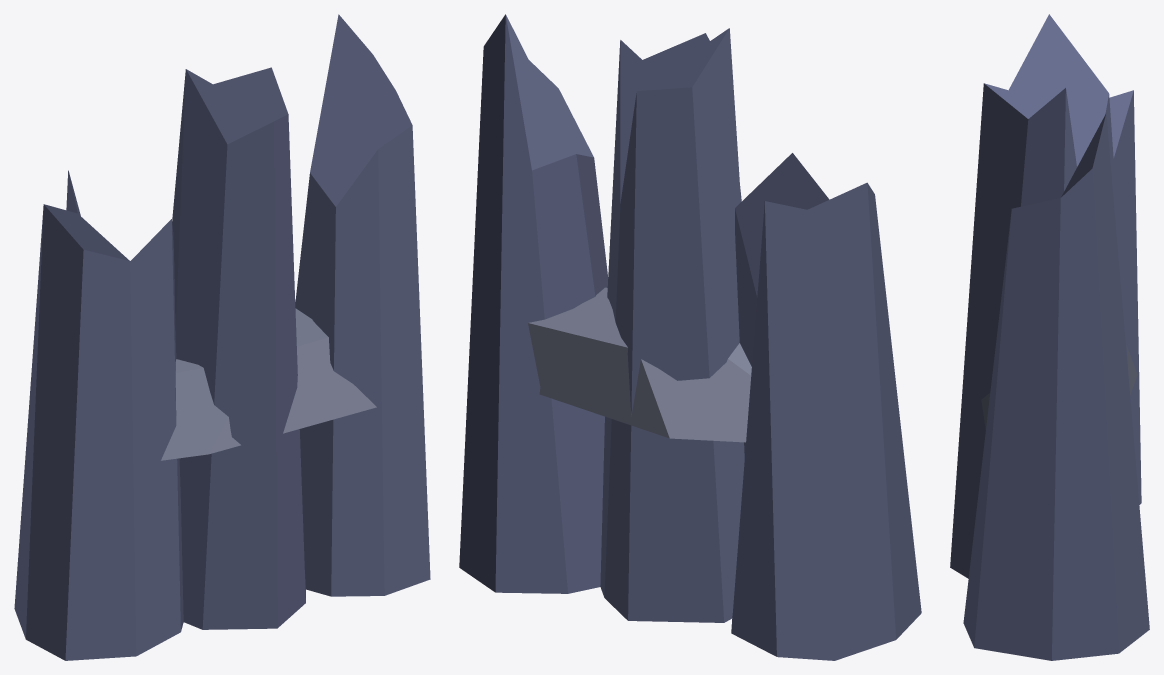
The model's file is map-boundaries-v5__highland_08.glb.
3 views of the same model, side by side, from view 1: azimuth 30°, elevation 25°; view 2: azimuth 150°, elevation 25°; view 3: azimuth 270°, elevation 25° (orthographic). The views are drawn at different scales.
Parts seen in each view (by area): view 1: highland_08; view 2: highland_08; view 3: highland_08.
Part boxes in pixels (x1=…): highland_08: x1=14, y1=14, x2=430, y2=660; highland_08: x1=459, y1=14, x2=921, y2=660; highland_08: x1=950, y1=14, x2=1149, y2=660.
Bounding box in the file's own units: 1.49 × 1.95 × 0.6608.
